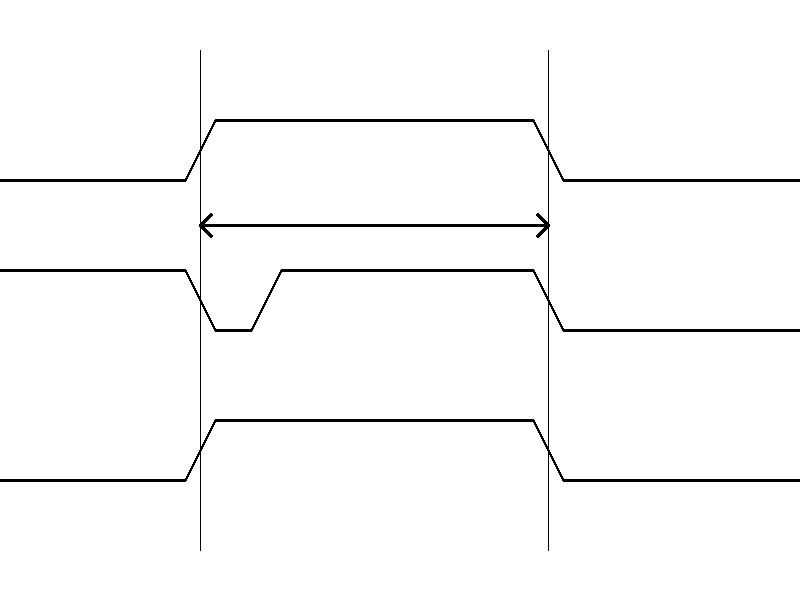double_arrow: (200, 210, 548, 240)
